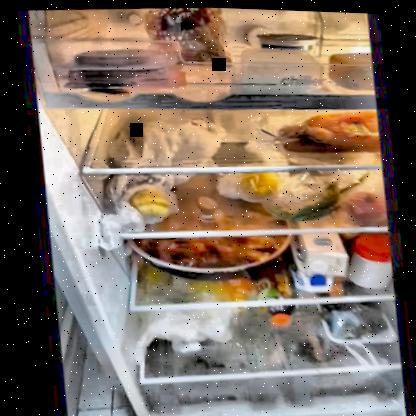broccoli: (321, 297, 387, 342)
butter: (330, 48, 374, 87)
carrot: (271, 106, 377, 152)
cheese: (235, 44, 321, 89)
green_chillies: (278, 182, 345, 218)
lemon: (124, 183, 173, 218), (236, 166, 278, 199)
milk: (287, 230, 347, 288)
salami: (66, 35, 169, 79)
tomato: (338, 187, 381, 221)
yoghurt: (260, 30, 318, 49)
